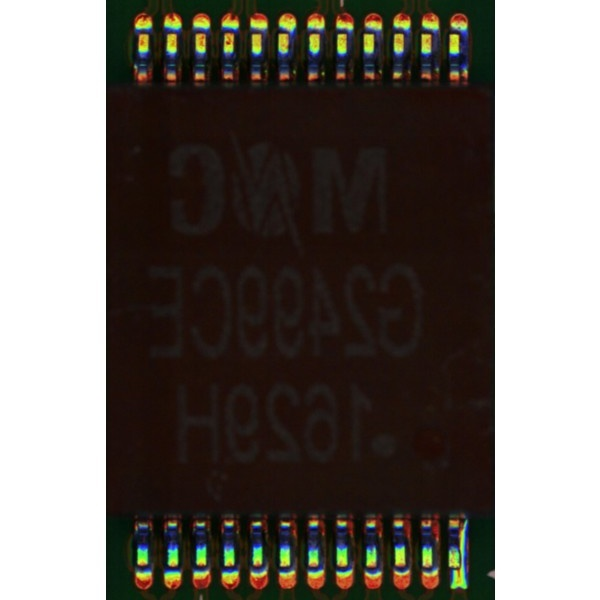Bad_podu: (454, 561, 462, 580)
Bad_qiaojiao: (460, 519, 468, 566)
